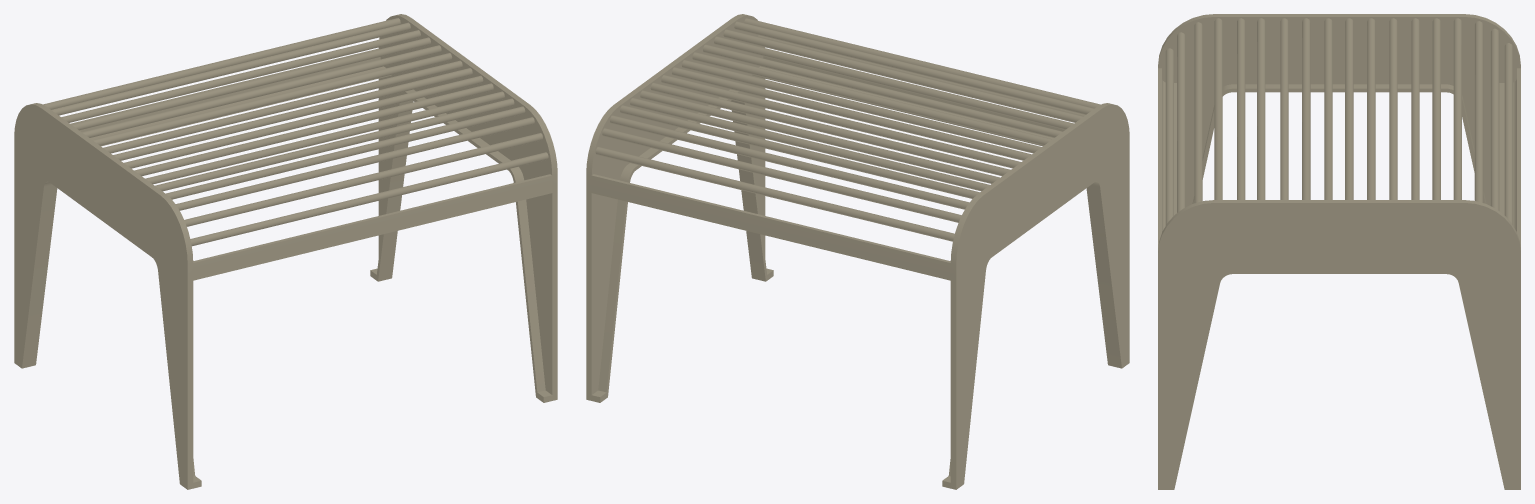
Rendered from stul1.glb.
3 views of the same model, side by side, from view 1: azimuth 30°, elevation 25°; view 2: azimuth 150°, elevation 25°; view 3: azimuth 270°, elevation 25° (orthographic). The views are drawn at different scales.
Visible parts, largest first — view 1: bel stool.009; view 2: bel stool.009; view 3: bel stool.009.
Part boxes in pixels (bbox=[...]): bel stool.009: bbox=[14, 14, 557, 489]; bel stool.009: bbox=[586, 14, 1129, 489]; bel stool.009: bbox=[1158, 14, 1520, 489].
Size of the model in its own units: 0.66 by 0.468 by 0.536.
Materials: 1 (1 with a texture image).
